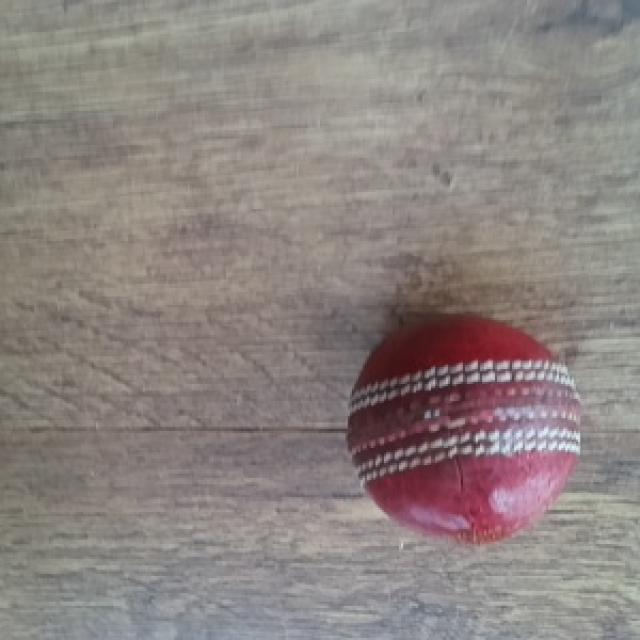ball: (352, 318, 585, 542)
